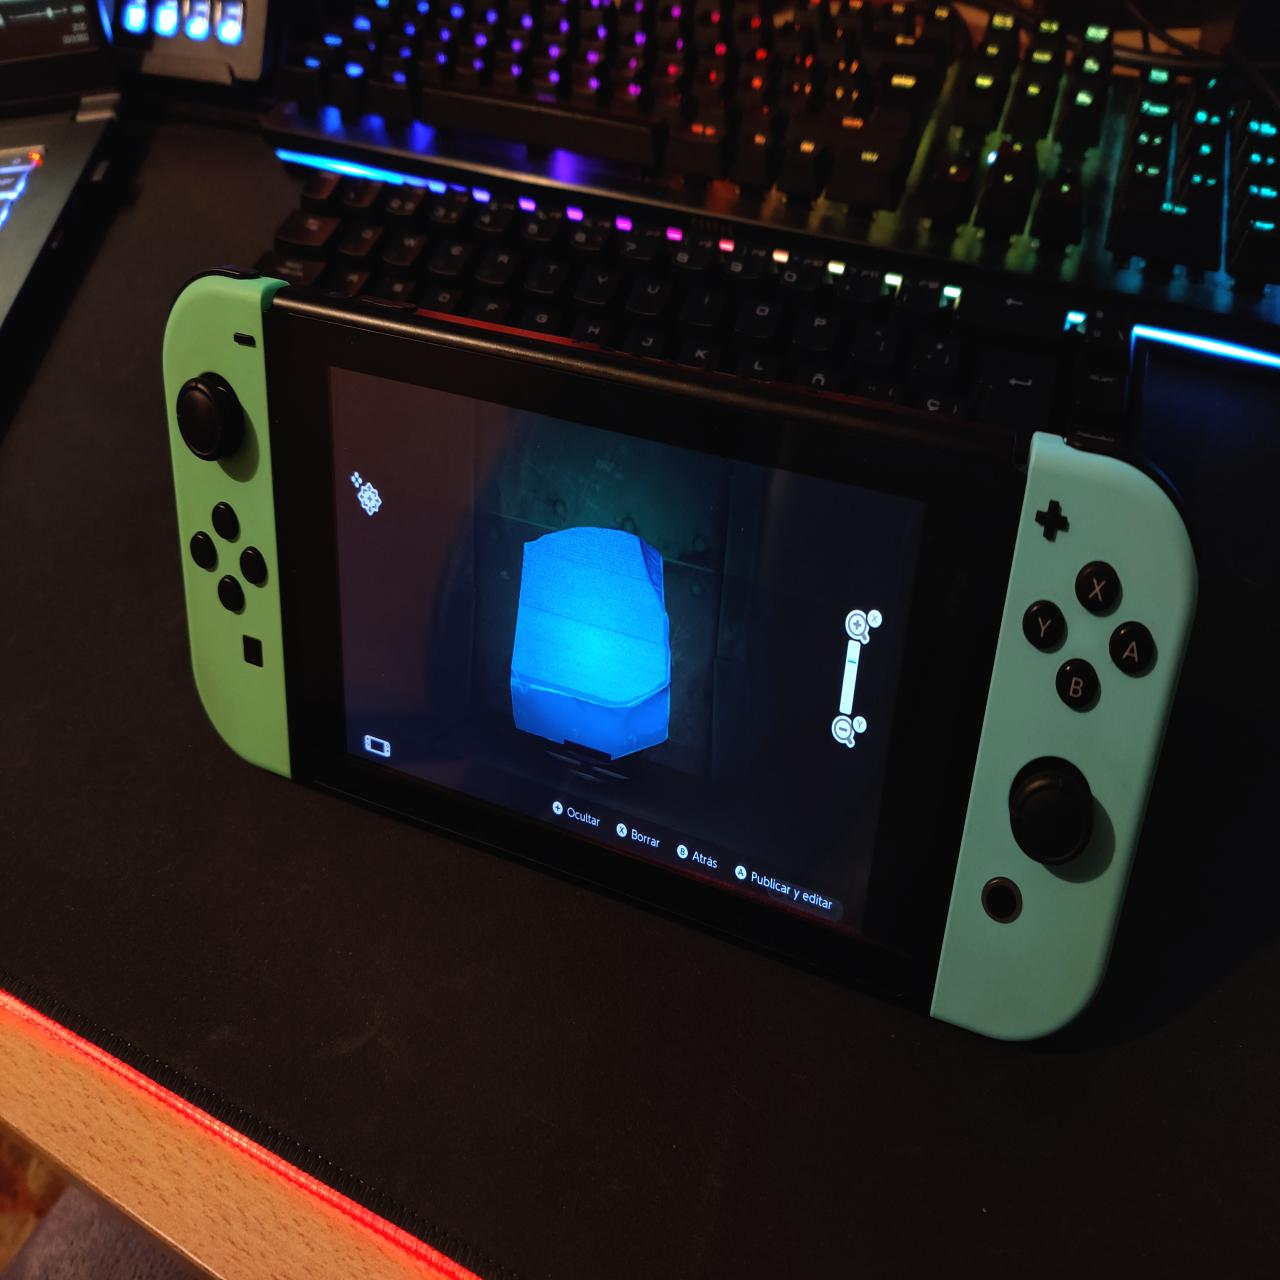RosettaStoneFake: (512, 523, 678, 768)
